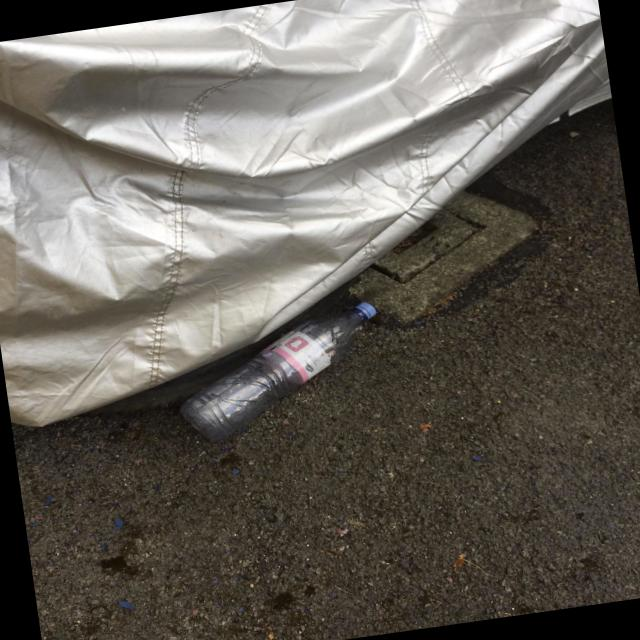less trash: (181, 303, 376, 440)
